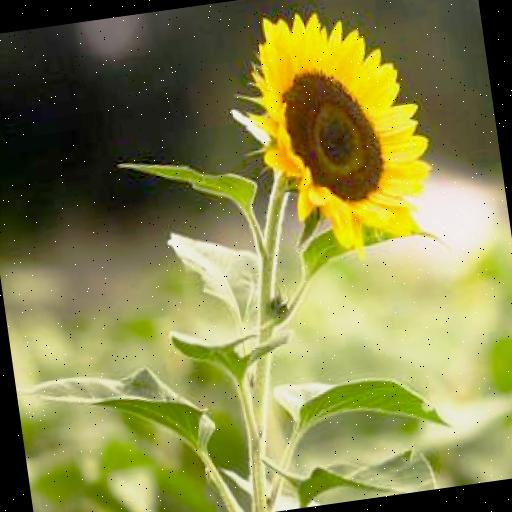sunflower: (239, 0, 442, 271)
